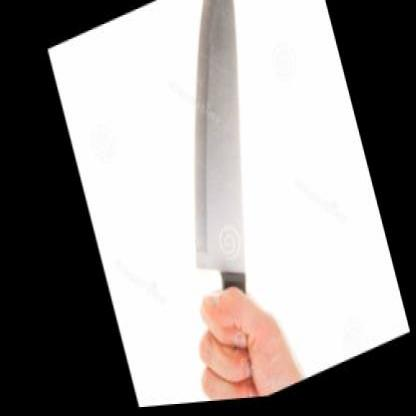knife: (105, 0, 334, 405)
